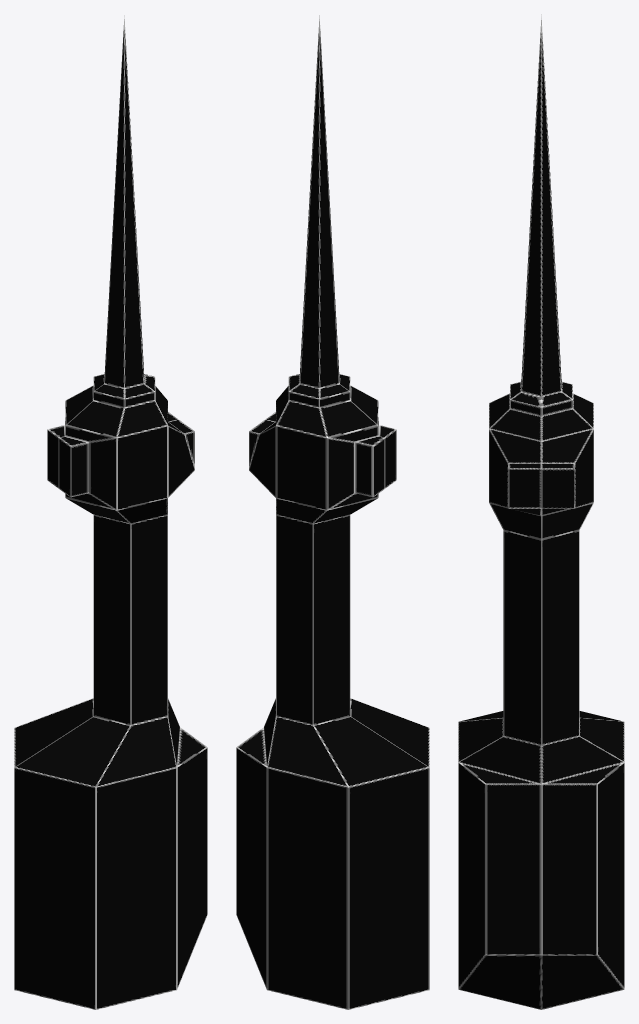
The picture shows the model from 3 angles, left to right: view 1: azimuth 30°, elevation 25°; view 2: azimuth 150°, elevation 25°; view 3: azimuth 270°, elevation 25°; orthographic projection. The views are drawn at different scales.
Visible parts, largest first — view 1: DD_12; view 2: DD_12; view 3: DD_12.
Boxes of the visible parts, box(x1,y1,x2,y2) form: DD_12: box(14, 15, 207, 1009); DD_12: box(236, 15, 429, 1009); DD_12: box(458, 14, 624, 1009).
Size of the model in its own units: 1019 by 5575 by 866.
1 material, 1 textured.
